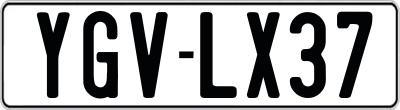3: (290, 10, 328, 102)
7: (337, 10, 378, 100)
G: (83, 10, 121, 97)
L: (199, 10, 236, 100)
V: (128, 9, 169, 100)
X: (244, 9, 277, 99)
Y: (37, 11, 72, 101)
